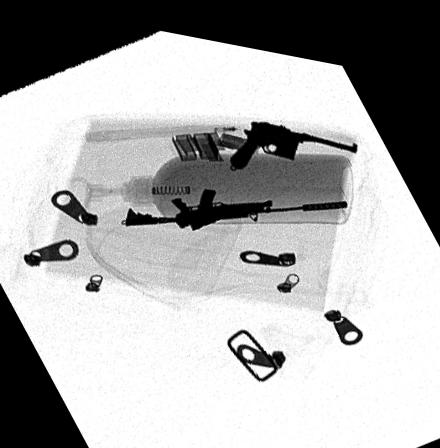Gun: (122, 179, 349, 224), (227, 109, 358, 161)
